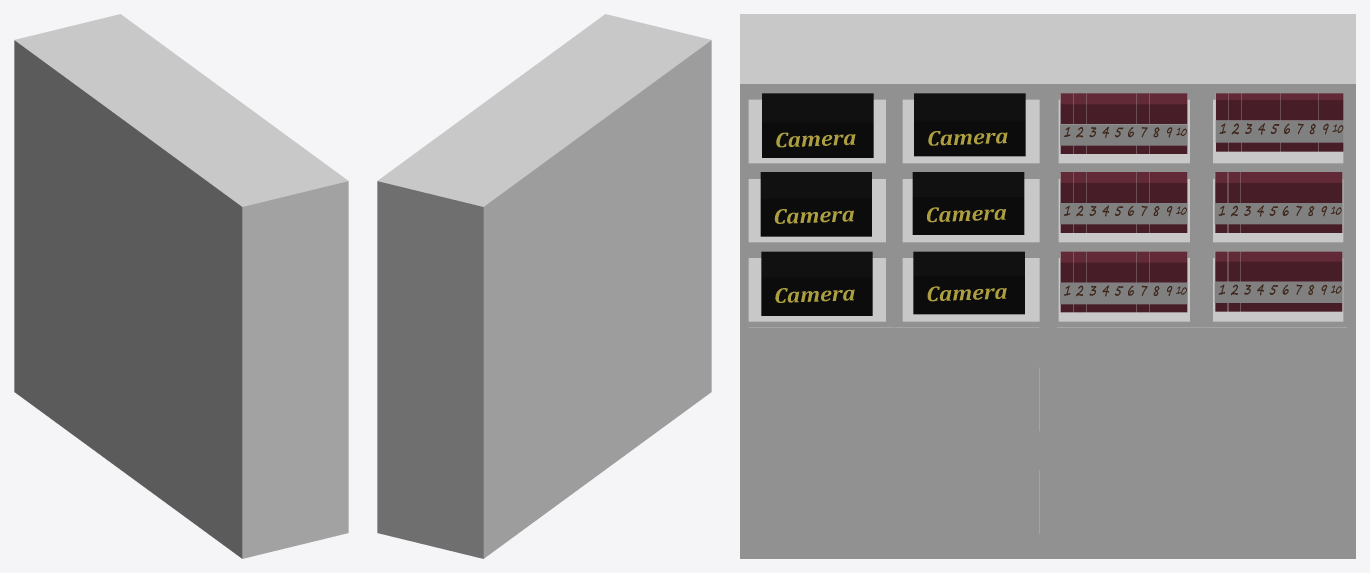
File: Lemari Lab Multimedia _ Produksi.fbx
The picture shows the model from 3 angles, left to right: view 1: azimuth 30°, elevation 25°; view 2: azimuth 150°, elevation 25°; view 3: azimuth 270°, elevation 25°; orthographic projection. The views are drawn at different scales.
Parts seen in each view (by area): view 1: Cube; view 2: Cube; view 3: Cube, Cube.120, Cube.123, Cube.121, Cube.122, Cube.026, Cube.027, Cube.022, Cube.024, Cube.023, Cube.025.
Part boxes in pixels (box(x1,y1,x2,y2)): Cube: box(14, 14, 348, 558); Cube: box(377, 14, 711, 558); Cube: box(740, 14, 1355, 558); Cube.120: box(894, 327, 1039, 534); Cube.123: box(748, 327, 893, 534); Cube.121: box(1057, 327, 1201, 534); Cube.122: box(1202, 327, 1346, 534); Cube.026: box(762, 93, 873, 157); Cube.027: box(760, 172, 871, 236); Cube.022: box(761, 251, 872, 315); Cube.024: box(914, 93, 1025, 156); Cube.023: box(913, 251, 1024, 314); Cube.025: box(912, 172, 1024, 234).
Size of the model in its own units: 54.18 by 170 by 200.
